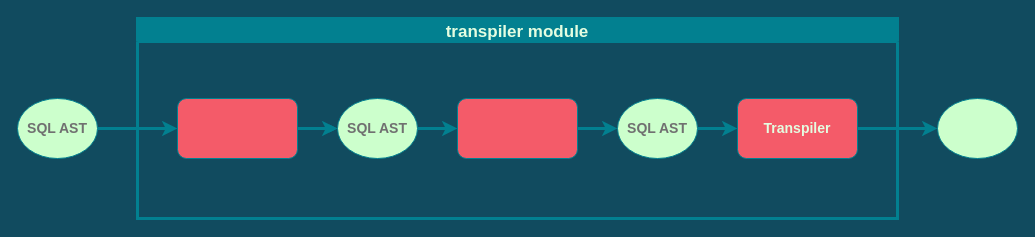
The diagram is 1035 pixels wide and 237 high, and some of its shapes have lost their labels. The box of each missing label's shape, as (x1, y1, x2, y2) in pixels:
CSS AST: (936, 98, 1018, 158)
Expression Flattener: (456, 98, 578, 158)
Negation Simplifer: (176, 98, 298, 158)
